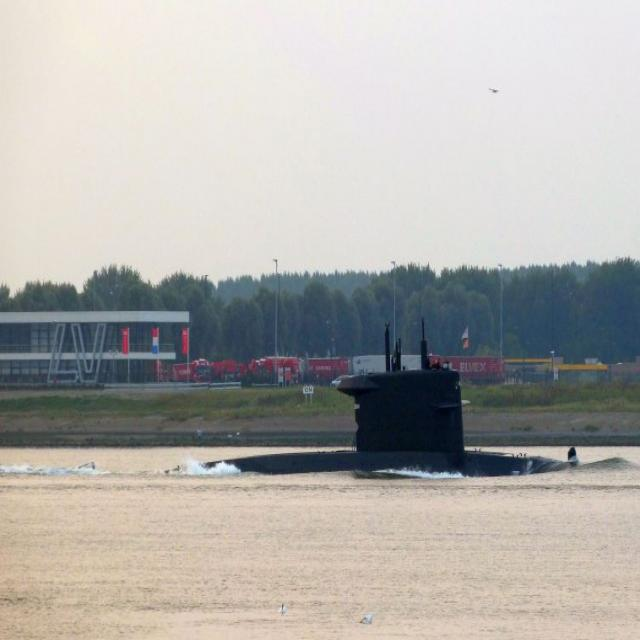submarine: (78, 319, 640, 472)
